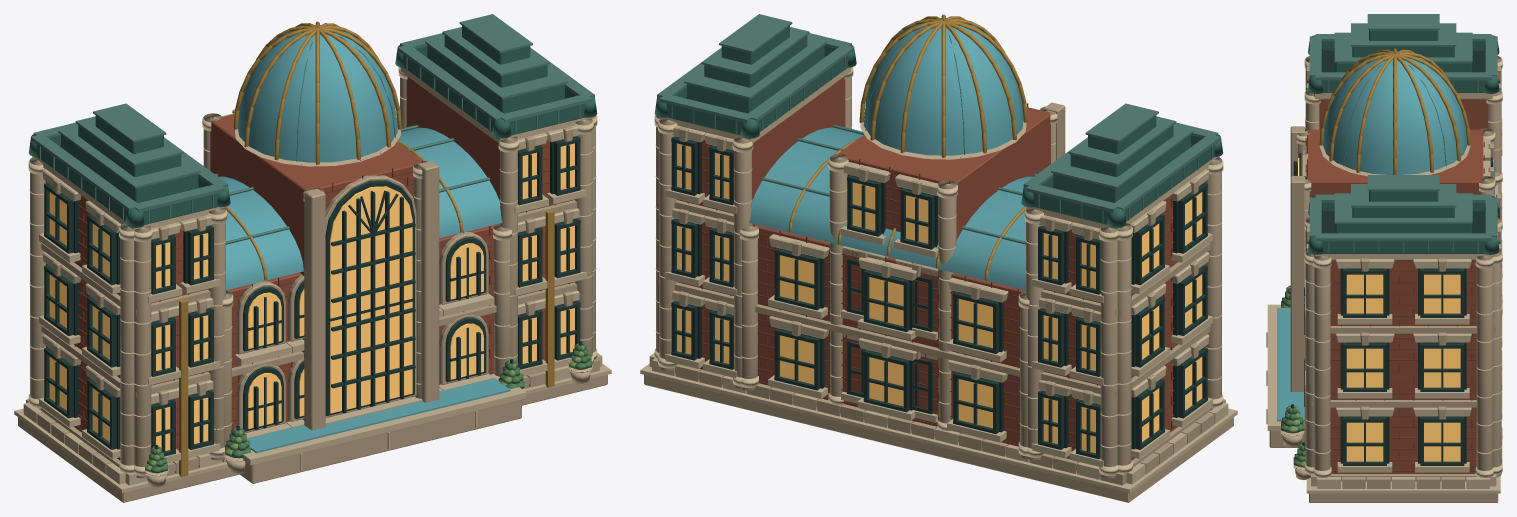
3 renders of one model, left to right at view 1: azimuth 30°, elevation 25°; view 2: azimuth 150°, elevation 25°; view 3: azimuth 270°, elevation 25°, orthographic. The views are drawn at different scales.
Visible parts, largest first — view 1: expansion_onsen_3_geometry; view 2: expansion_onsen_3_geometry; view 3: expansion_onsen_3_geometry.
Boxes of the visible parts, x1,y1,x2,y2 form: expansion_onsen_3_geometry: [14, 14, 611, 502]; expansion_onsen_3_geometry: [640, 14, 1237, 502]; expansion_onsen_3_geometry: [1266, 14, 1502, 502].
Bounding box in the file's own units: 2.19 × 1.64 × 1.02.
